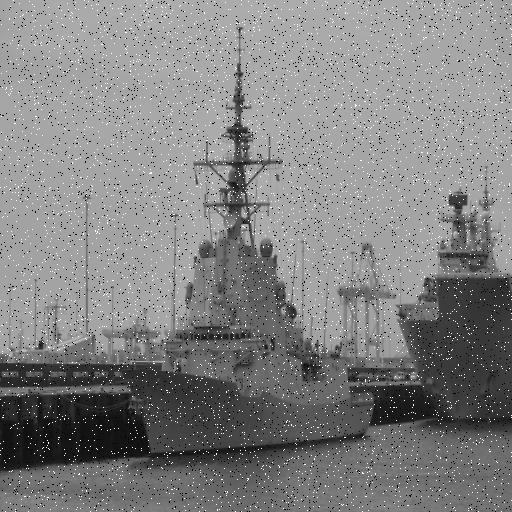Fragata: (120, 1, 384, 468)
